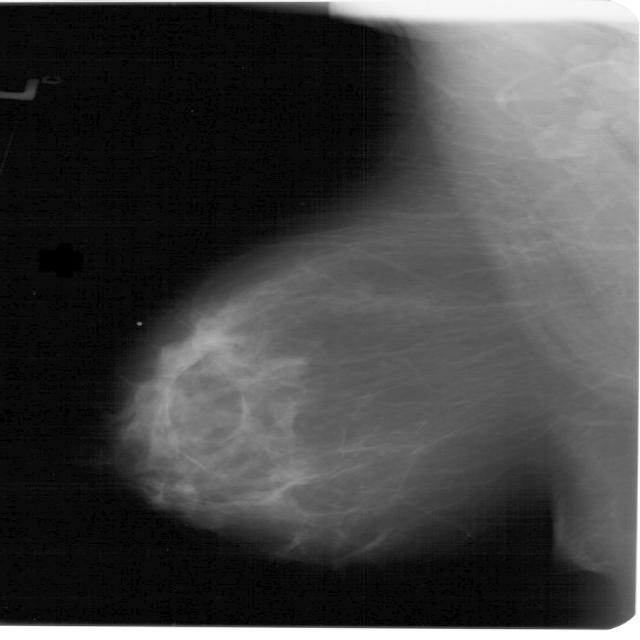tumour: (156, 313, 237, 368)
